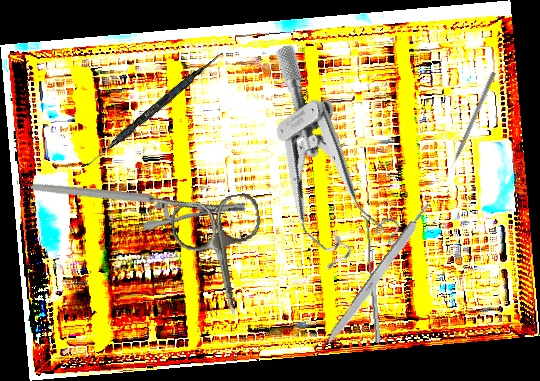Iris Scissors: (168, 191, 276, 322)
Needle Holder: (29, 118, 249, 275)
Pusher: (444, 71, 497, 177)
Scalpel Handle: (320, 200, 436, 352)
Spatula Surgical: (80, 47, 224, 175), (359, 214, 381, 344)
Speculum: (207, 41, 423, 289)
